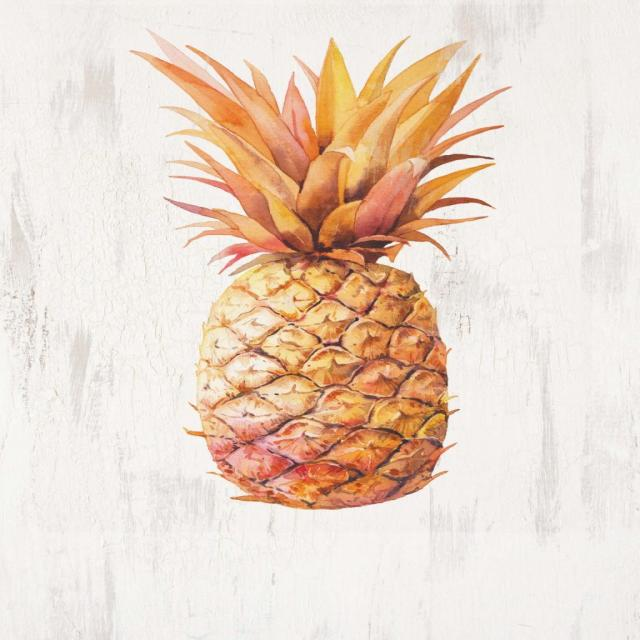pineapple: (162, 175, 462, 512)
